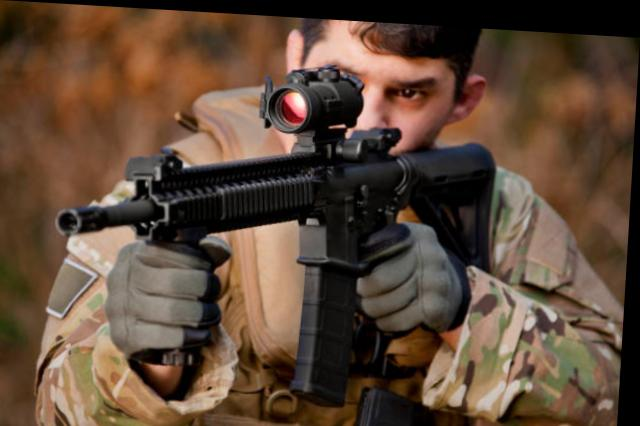other: (143, 8, 554, 424)
